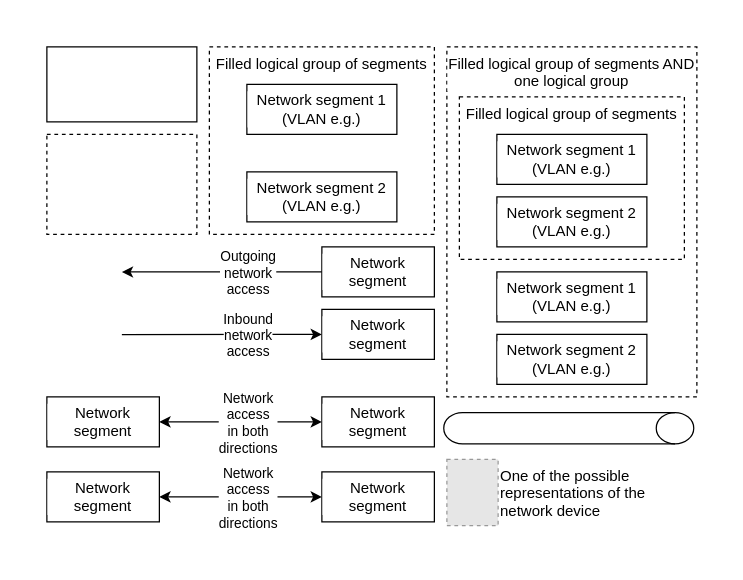
The diagram is 743 pixels wide and 580 high, and some of its shapes have lost their labels. Grey dashed boxes stand in for pictures. Here are the shapes that lost their labels. From the top down, the centre of each, then its label:
At point (121, 84): "Network segment (VLAN e.g.)".
At point (121, 183): "Logical group of segments or other logical groups".
At point (568, 427): "Virtual private network".
